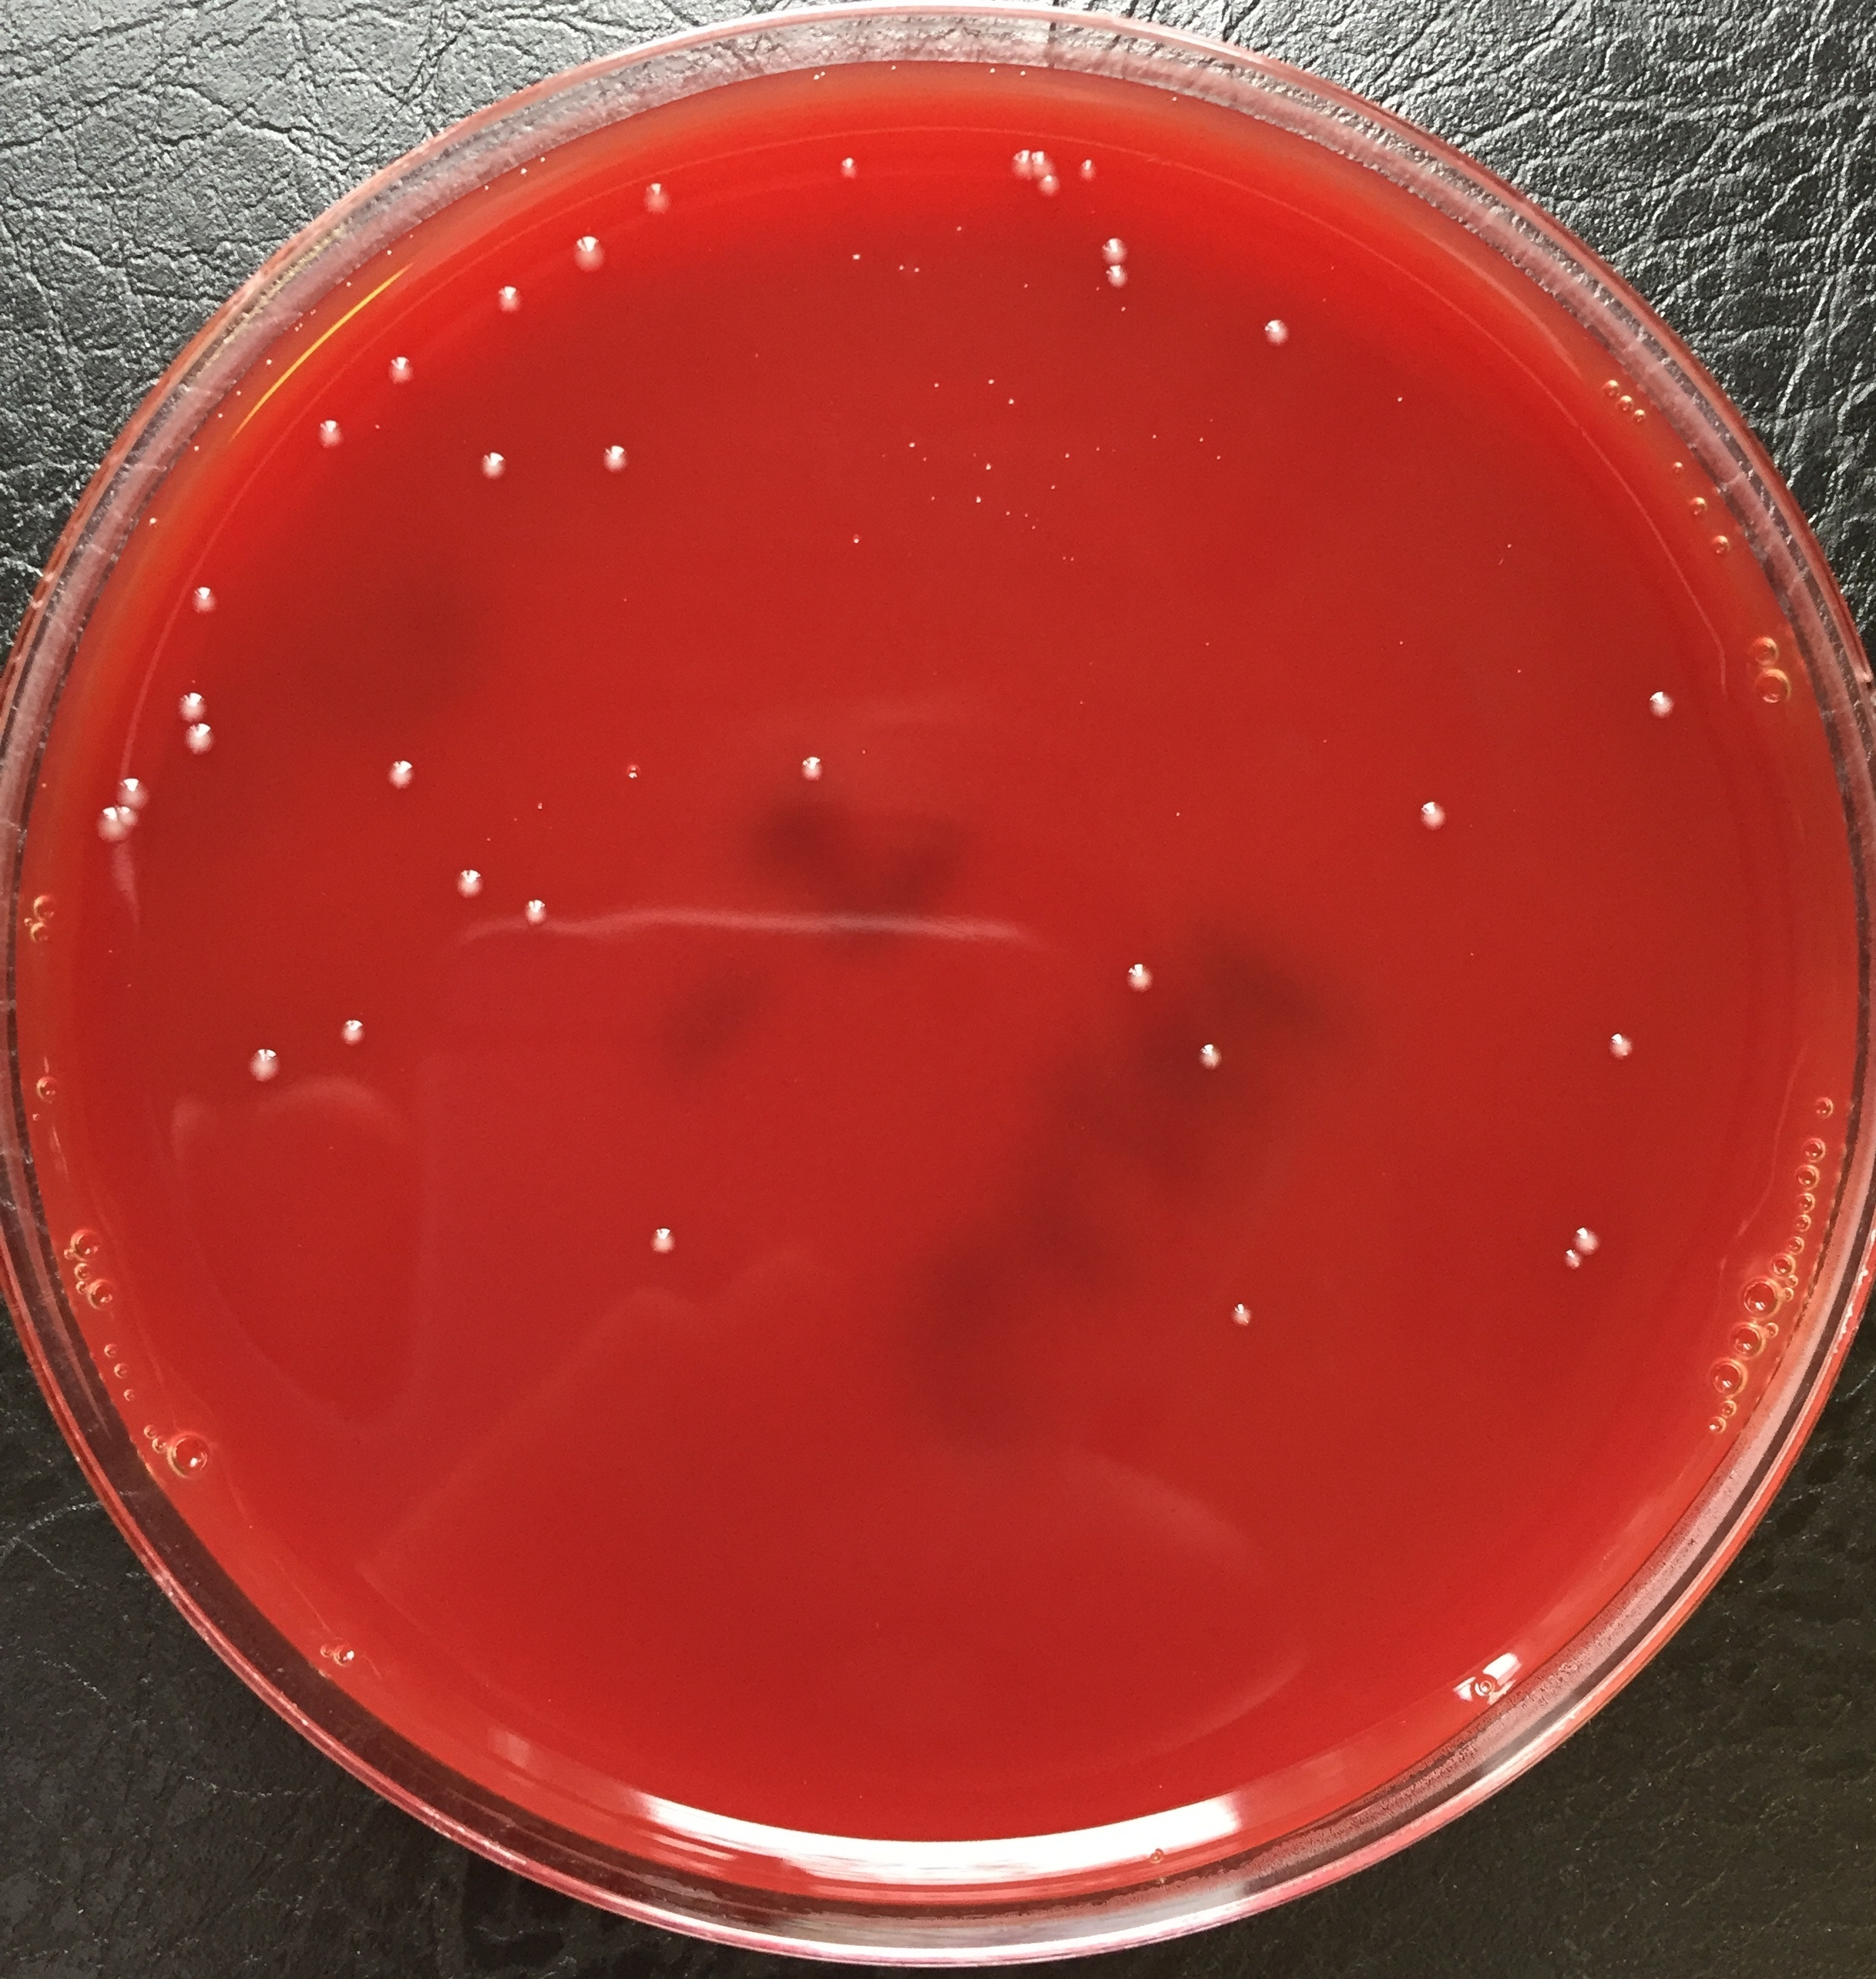sp06: (233, 1031, 286, 1108), (1631, 675, 1691, 740), (562, 219, 614, 278), (788, 745, 850, 795), (1178, 1036, 1243, 1080), (1405, 797, 1456, 851), (178, 569, 227, 624), (462, 446, 520, 492), (307, 407, 353, 465), (1118, 953, 1165, 1008), (1210, 1293, 1266, 1339), (1592, 1026, 1650, 1070), (374, 758, 430, 802), (368, 349, 420, 395), (587, 435, 640, 479), (631, 174, 681, 217), (1255, 307, 1296, 358), (448, 863, 492, 908), (830, 150, 871, 196), (642, 1216, 675, 1269), (88, 802, 122, 853), (515, 883, 548, 932), (340, 1003, 370, 1056), (487, 278, 525, 319), (111, 775, 153, 812), (173, 687, 215, 723), (178, 726, 222, 760), (1095, 229, 1132, 266), (111, 798, 150, 834), (998, 141, 1033, 180), (1072, 152, 1107, 189), (1028, 174, 1061, 206), (1571, 1223, 1608, 1251), (1553, 1248, 1585, 1279), (1024, 148, 1056, 178), (1095, 266, 1130, 289)
